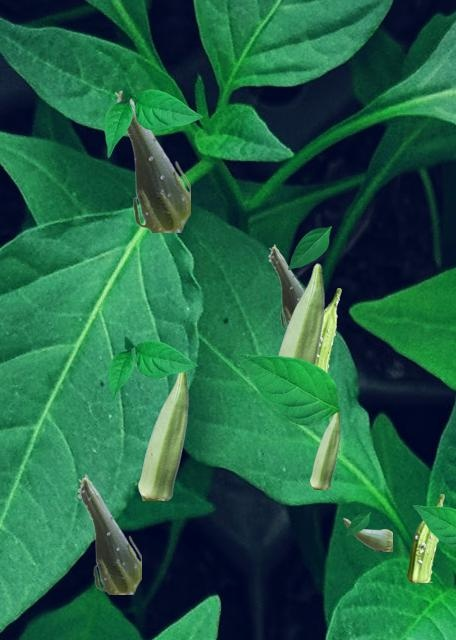okra: (114, 90, 189, 231), (77, 474, 140, 593), (273, 263, 323, 408), (138, 372, 187, 499), (407, 494, 443, 581), (268, 244, 303, 329), (310, 408, 339, 488), (317, 288, 340, 372), (343, 518, 391, 550)
